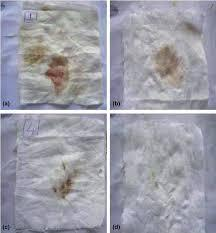blood: (47, 56, 70, 94), (57, 178, 73, 199)
